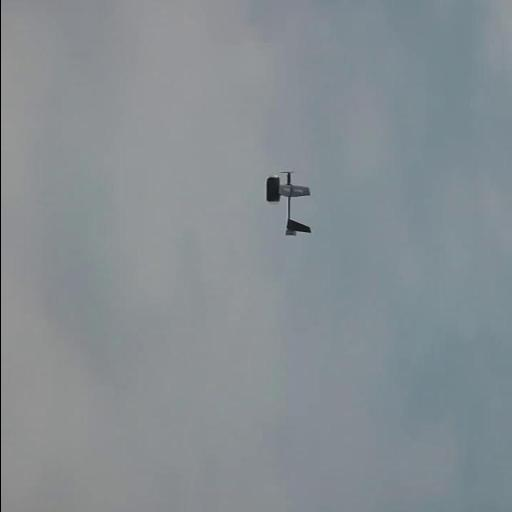uav: (264, 170, 314, 236)
